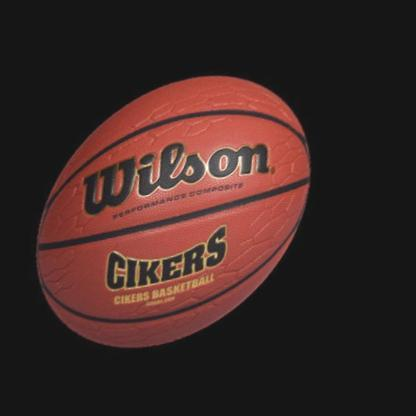basketball: (10, 50, 354, 383)
